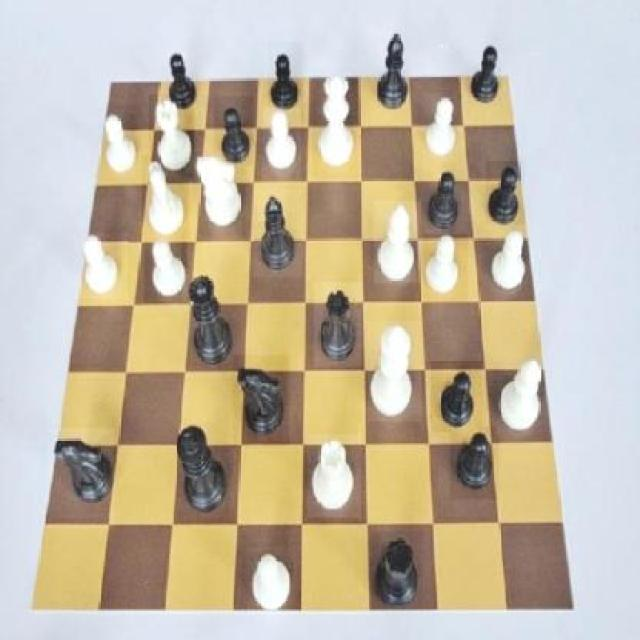bishop: (371, 28, 415, 122), (254, 191, 301, 278)
black-bishop: (178, 424, 232, 524)
black-king: (48, 428, 114, 528), (232, 355, 288, 448)
black-knight: (431, 360, 482, 432), (451, 428, 500, 500), (268, 41, 304, 124), (214, 96, 254, 166), (425, 166, 467, 232), (486, 160, 526, 227), (165, 48, 202, 114), (468, 39, 502, 106)
black-pawn: (183, 266, 240, 369)
black-queen: (314, 282, 361, 366), (372, 531, 423, 608)
black-rook: (497, 346, 549, 436), (374, 200, 421, 283)
white-bishop: (368, 320, 422, 421)
white-king: (194, 152, 246, 236), (142, 156, 188, 242)
white-knight: (74, 234, 128, 300), (484, 224, 532, 298), (423, 94, 468, 171), (101, 104, 146, 180), (248, 548, 297, 614), (144, 235, 188, 303), (424, 234, 468, 301), (262, 108, 299, 182)
white-pawn: (314, 68, 363, 180)
white-queen: (308, 434, 362, 518), (149, 94, 194, 178)
